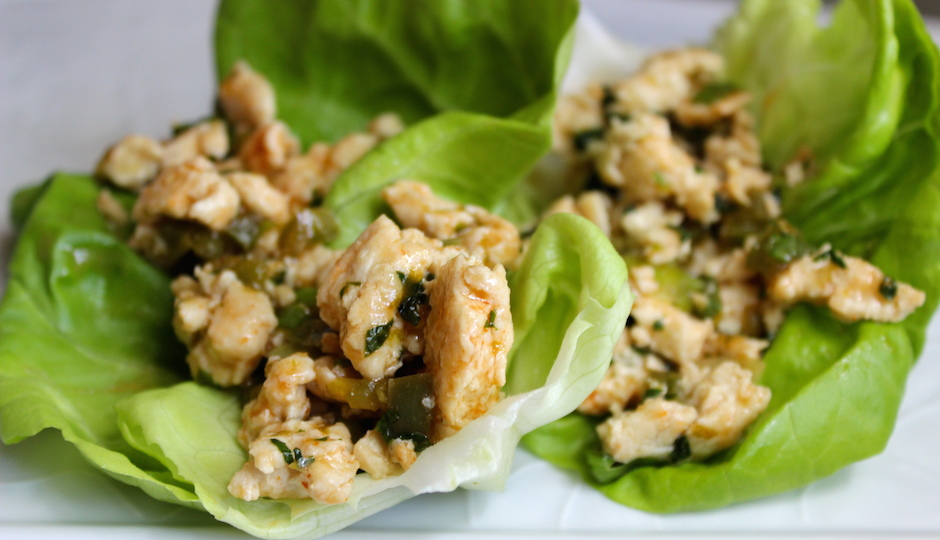chopped lettuce: (1, 188, 189, 518), (778, 11, 940, 254), (515, 223, 628, 430)
